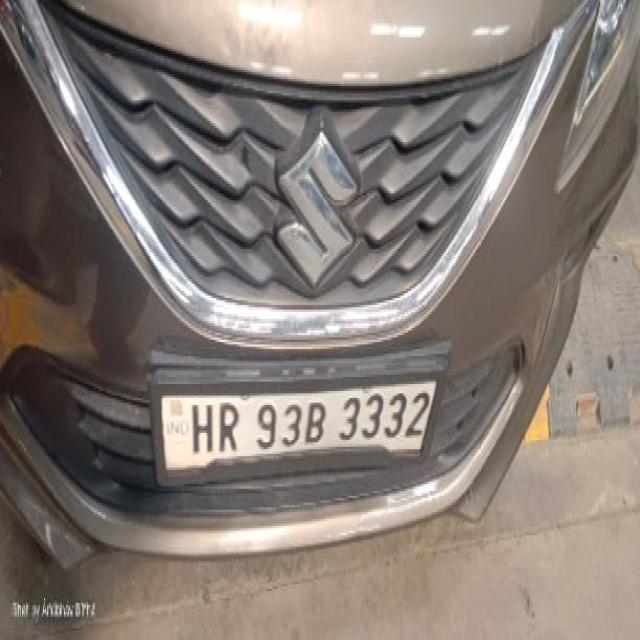license_plate: (0, 0, 639, 568), (146, 337, 444, 489)
